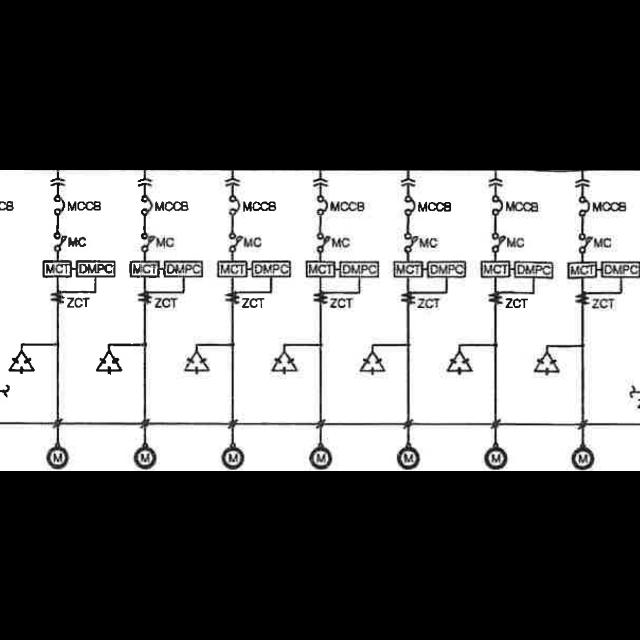MC: (52, 230, 68, 252), (491, 230, 507, 252), (578, 232, 594, 252), (405, 231, 419, 253), (140, 232, 154, 252), (228, 232, 242, 252), (316, 232, 330, 252)
MCCB: (52, 194, 66, 216), (141, 194, 153, 216), (228, 194, 240, 216), (404, 194, 416, 216), (578, 194, 590, 216), (491, 193, 503, 214), (316, 194, 328, 214)
SC: (446, 351, 474, 375), (183, 350, 210, 374), (9, 350, 35, 374), (96, 350, 122, 374), (534, 351, 560, 375), (272, 352, 298, 374), (359, 352, 385, 374)
ZCT: (137, 290, 153, 306), (50, 290, 66, 304), (224, 290, 240, 304), (488, 290, 504, 304), (313, 292, 329, 304), (401, 292, 417, 304), (574, 292, 590, 304)
